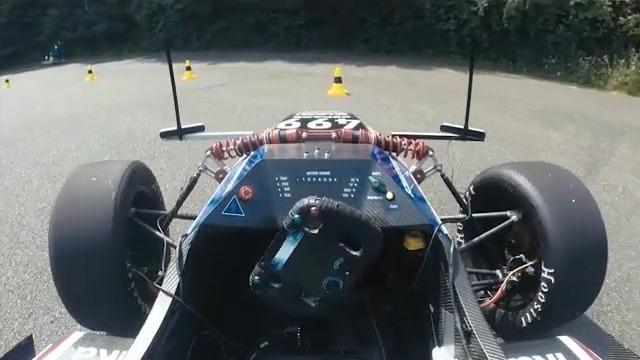yellow_cone: (325, 65, 357, 103), (177, 59, 199, 83), (84, 62, 103, 81), (4, 75, 13, 89)
